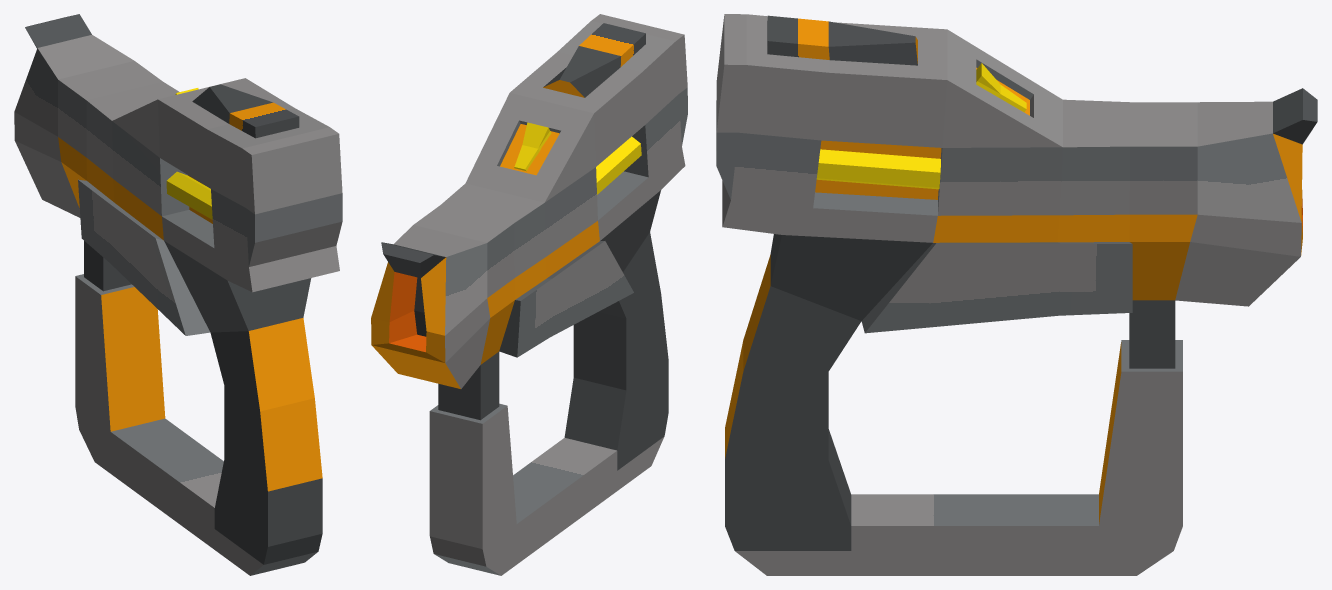
Rendered from ConnectGun.fbx.
3 renders of one model, left to right at view 1: azimuth 30°, elevation 25°; view 2: azimuth 150°, elevation 25°; view 3: azimuth 270°, elevation 25°, orthographic. The views are drawn at different scales.
Parts seen in each view (by area): view 1: Gun, Cylinder; view 2: Gun, Cylinder, CubeGun; view 3: Gun, Cylinder.001, CubeGun.
Boxes of the visible parts, x1,y1,x2,y2 form: Gun: (14,14,342,575); Cylinder: (166,171,212,219); Gun: (371,14,687,575); Cylinder: (596,136,641,194); CubeGun: (514,122,551,171); Gun: (716,14,1317,575); Cylinder.001: (816,149,940,189); CubeGun: (976,63,1026,112).
Size of the model in its own units: 11.58 by 48.82 by 50.02.
Materials: 1 (1 with a texture image).
